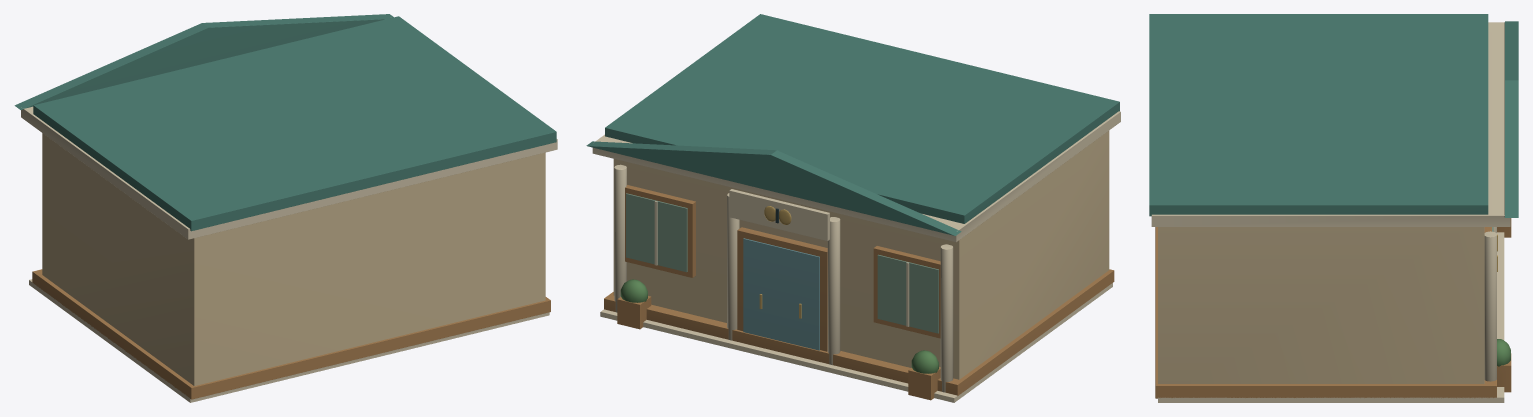
File: museum_exterior.glb
3 renders of one model, left to right at view 1: azimuth 30°, elevation 25°; view 2: azimuth 150°, elevation 25°; view 3: azimuth 270°, elevation 25°, orthographic. The views are drawn at different scales.
Size of the model in its own units: 9.4 by 5.1 by 7.47.
